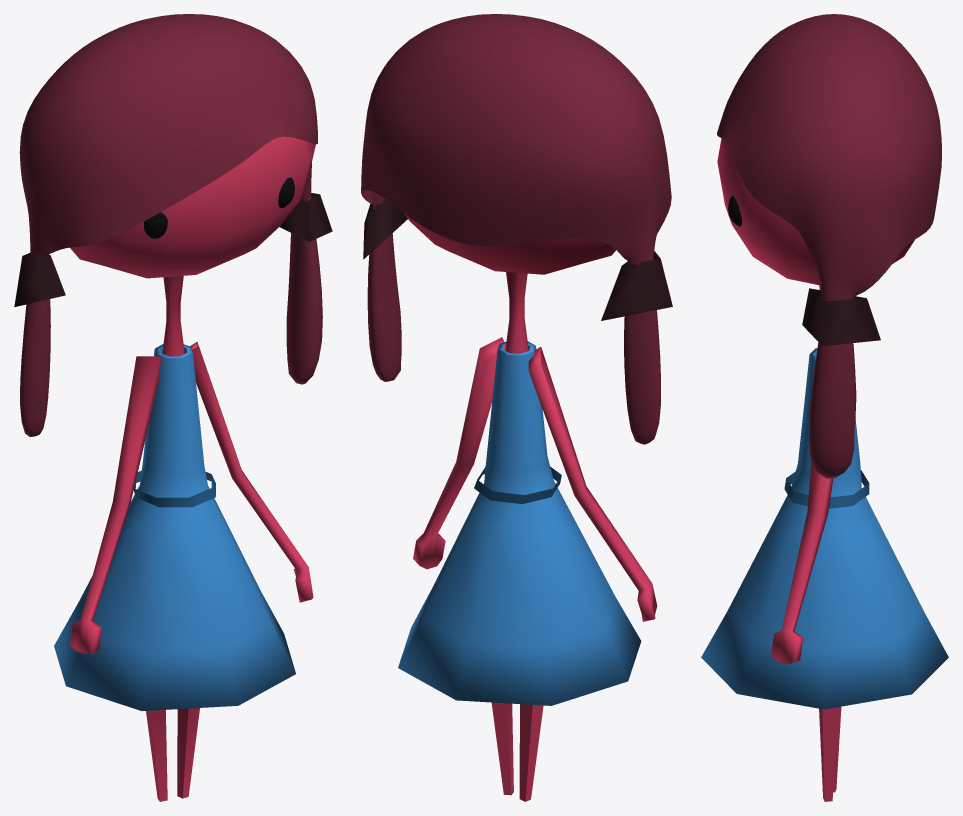
Rendered from mdl_chr_1-forest_girl_v02.fbx.
The picture shows the model from 3 angles, left to right: view 1: azimuth 30°, elevation 25°; view 2: azimuth 150°, elevation 25°; view 3: azimuth 270°, elevation 25°; orthographic projection.
Visible parts, largest first — view 1: annie_GEO; view 2: annie_GEO; view 3: annie_GEO.
Boxes of the visible parts, x1,y1,x2,y2 form: annie_GEO: [14, 14, 332, 801]; annie_GEO: [361, 14, 672, 801]; annie_GEO: [701, 14, 948, 801].
Size of the model in its own units: 0.4981 by 1.17 by 0.346.
